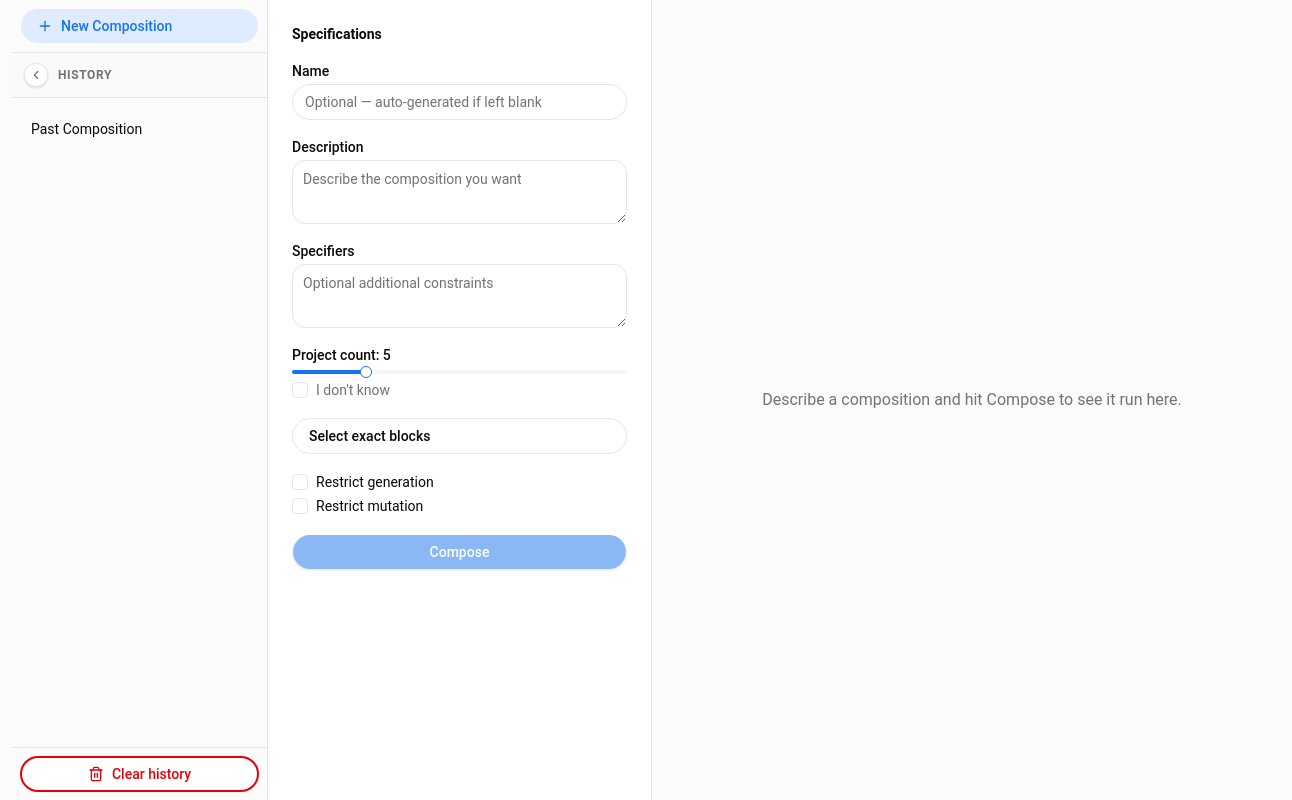
Test case: selecting a history entry populates SpecificationsPanel's fixed fields and ResultPanel's content from its original inputs/output; Compose is not rendered
Click the button "Past Composition" at (108, 129), box [31,119,186,139]
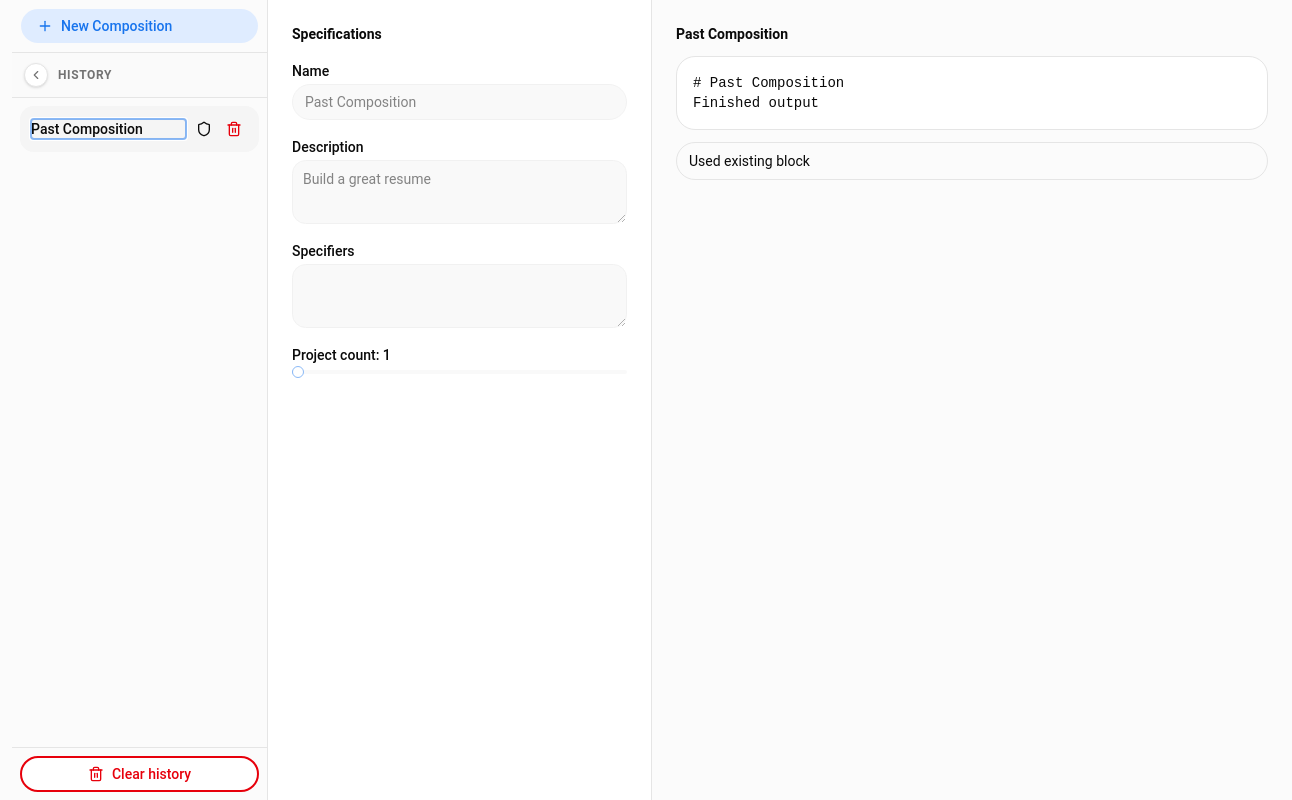
Expected: the element with test id "result-panel-history" shows "Finished output", [693,75,844,111]
Expected: the text box labelled "Description" is disabled, [292,160,627,224]
Expected: the text box labelled "Description" holds "Build a great resume", [292,160,627,224]
